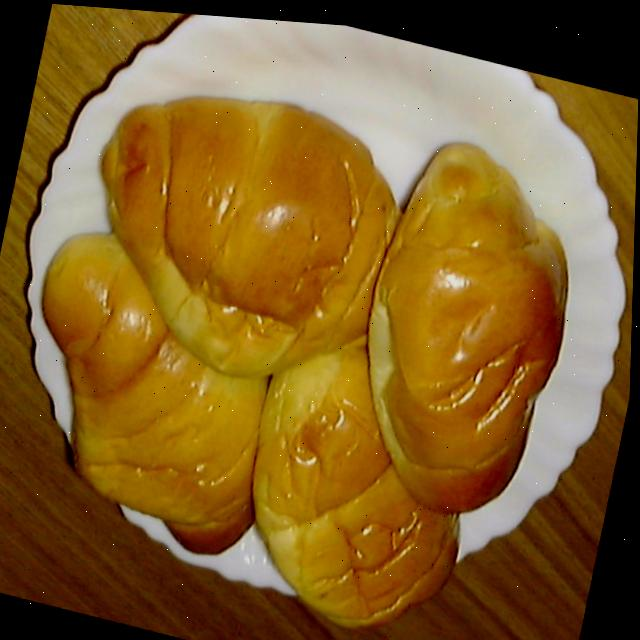面包点心: (22, 56, 595, 631)
